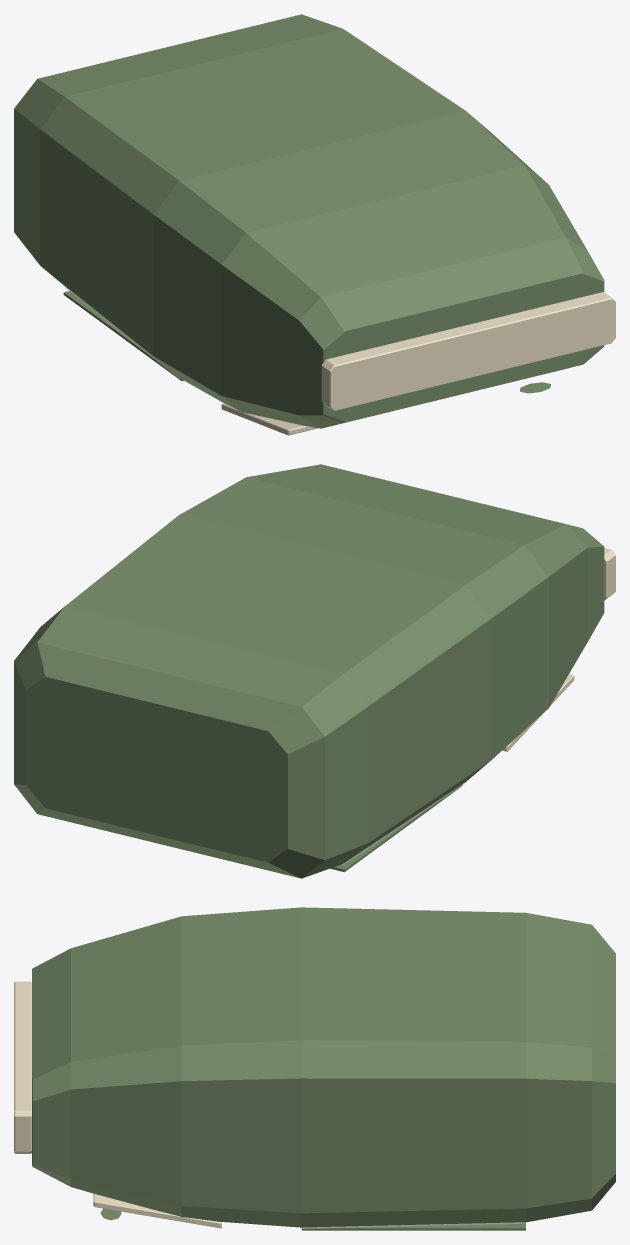
The model's file is bay_leaves.glb.
The picture shows the model from 3 angles, top to bottom: view 1: azimuth 30°, elevation 25°; view 2: azimuth 150°, elevation 25°; view 3: azimuth 270°, elevation 25°; orthographic projection. The views are drawn at different scales.
Visible parts, largest first — view 1: bay_leaves; view 2: bay_leaves; view 3: bay_leaves.
Part boxes in pixels (x1,y1,x2,y2): bay_leaves: (14, 14, 615, 435); bay_leaves: (14, 464, 615, 878); bay_leaves: (14, 907, 615, 1230).
Size of the model in its own units: 0.0865 by 0.0494 by 0.1407.
